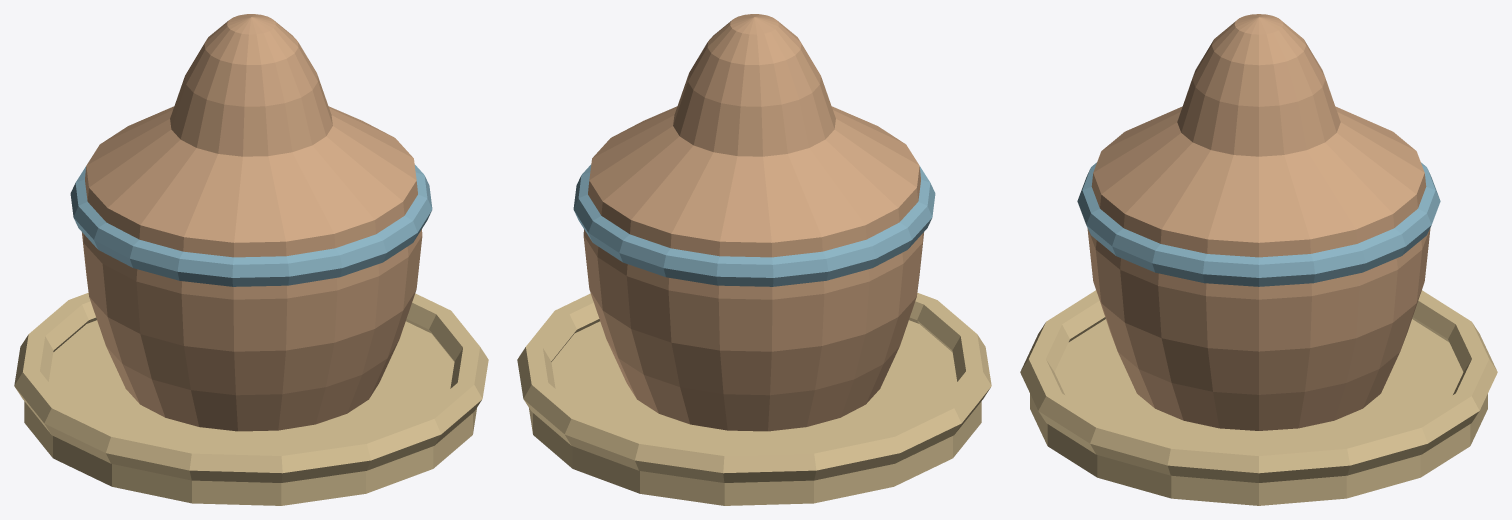
The model's file is prop_artesania.glb.
3 renders of one model, left to right at view 1: azimuth 30°, elevation 25°; view 2: azimuth 150°, elevation 25°; view 3: azimuth 270°, elevation 25°, orthographic.
Parts seen in each view (by area): view 1: PropArtesania; view 2: PropArtesania; view 3: PropArtesania.
Part boxes in pixels (bbox=[...]): PropArtesania: bbox=[14, 14, 488, 505]; PropArtesania: bbox=[517, 14, 991, 505]; PropArtesania: bbox=[1020, 14, 1497, 505].
Size of the model in its own units: 0.334 by 0.313 by 0.334.
